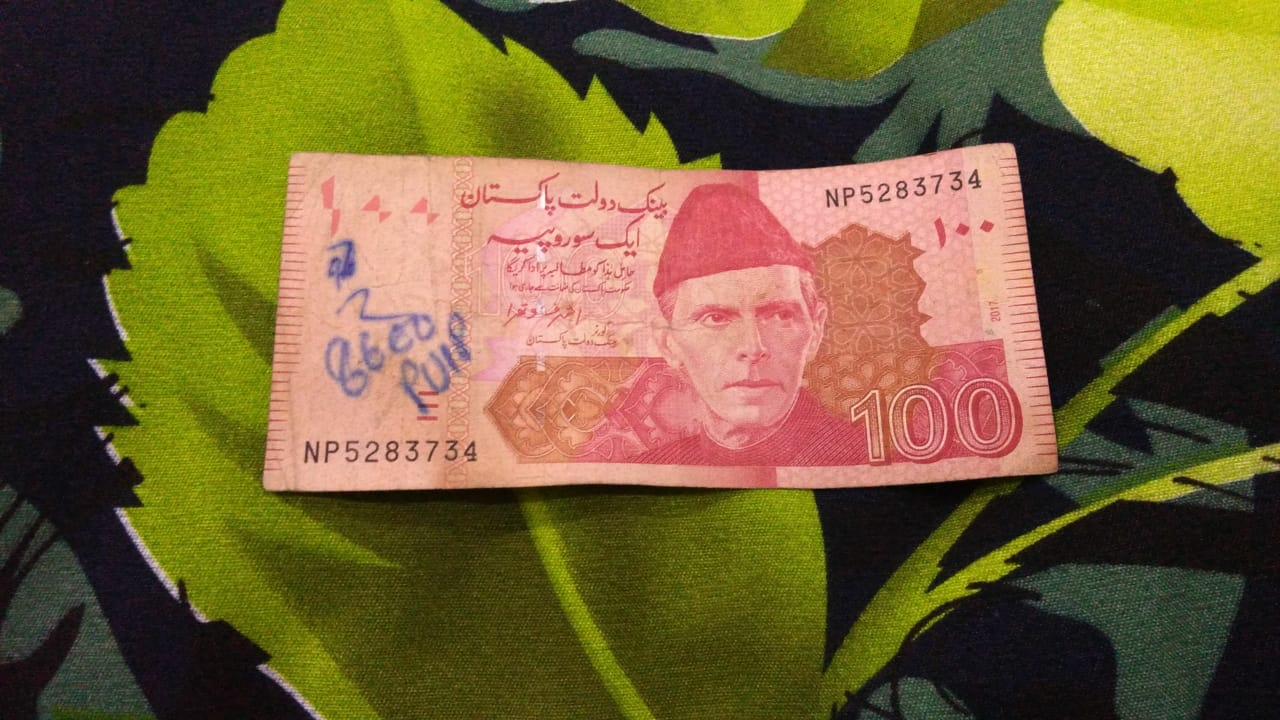100 rupee: (245, 130, 1087, 519)
